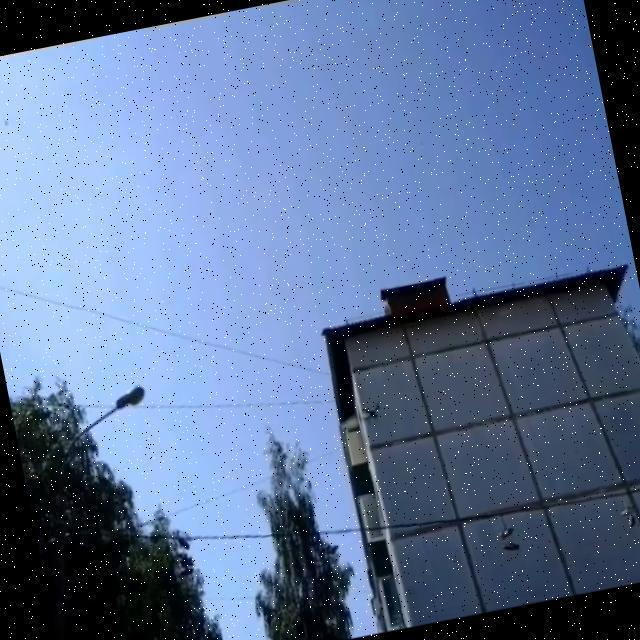Drons: (357, 401, 385, 425)
